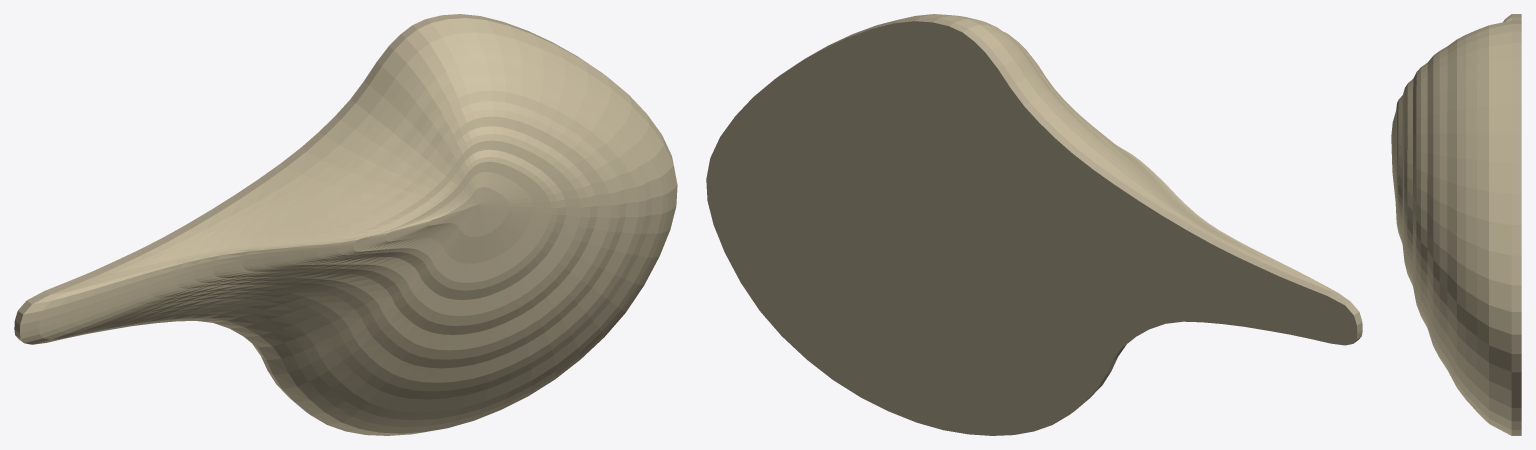
3 views of the same model, side by side, from view 1: azimuth 30°, elevation 25°; view 2: azimuth 150°, elevation 25°; view 3: azimuth 270°, elevation 25° (orthographic). The views are drawn at different scales.
Parts seen in each view (by area): view 1: Single valve exterior and technical closure; view 2: Single valve exterior and technical closure; view 3: Single valve exterior and technical closure.
Boxes of the visible parts, x1=… form: Single valve exterior and technical closure: x1=14, y1=14, x2=677, y2=435; Single valve exterior and technical closure: x1=706, y1=14, x2=1362, y2=435; Single valve exterior and technical closure: x1=1391, y1=14, x2=1521, y2=435.
Size of the model in its own units: 0.008 by 0.00476 by 0.00148.
